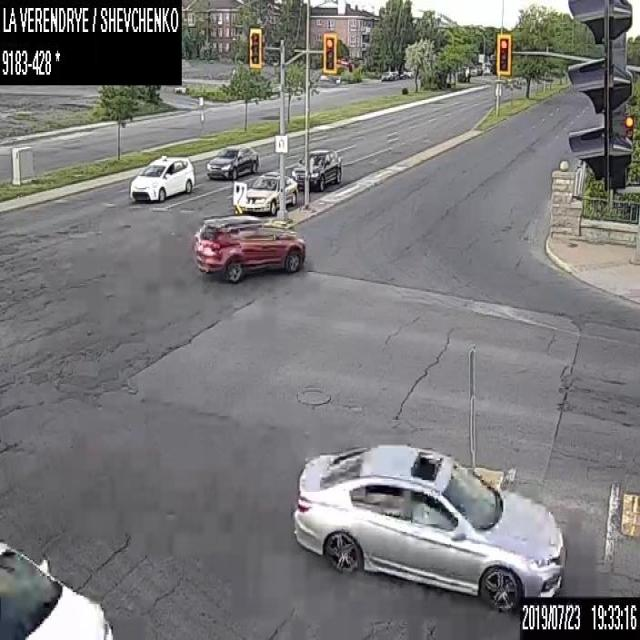vehicle: (292, 440, 567, 612), (0, 538, 113, 638), (193, 212, 305, 283), (129, 153, 195, 200), (291, 146, 343, 192), (240, 170, 298, 211), (205, 142, 258, 178), (381, 70, 392, 81), (391, 70, 398, 80)
